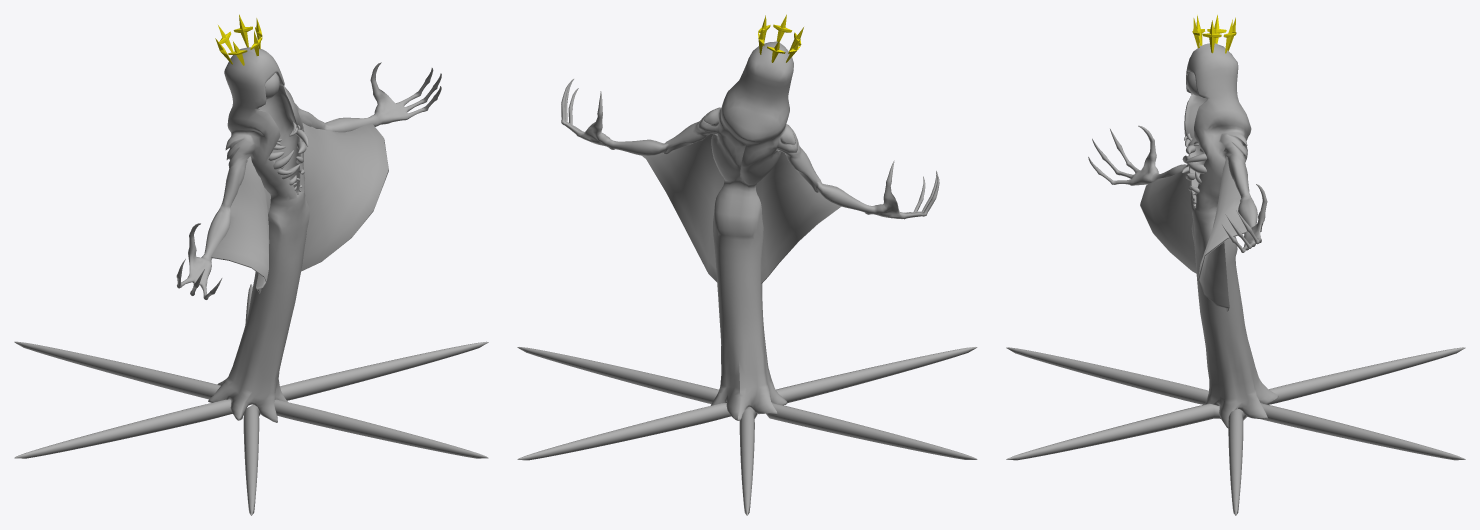
Rendered from BECOMEKING.fbx.
The picture shows the model from 3 angles, left to right: view 1: azimuth 30°, elevation 25°; view 2: azimuth 150°, elevation 25°; view 3: azimuth 270°, elevation 25°; orthographic projection. The views are drawn at different scales.
Parts seen in each view (by area): view 1: RayDemon_geo, SM_CrownOfDamocles; view 2: RayDemon_geo, SM_CrownOfDamocles; view 3: RayDemon_geo, SM_CrownOfDamocles.
Part boxes in pixels (bbox=[...]): RayDemon_geo: bbox=[14, 47, 488, 515]; SM_CrownOfDamocles: bbox=[215, 14, 262, 65]; RayDemon_geo: bbox=[517, 41, 977, 515]; SM_CrownOfDamocles: bbox=[758, 14, 803, 62]; RayDemon_geo: bbox=[1006, 43, 1465, 515]; SM_CrownOfDamocles: bbox=[1192, 15, 1236, 53].
Size of the model in its own units: 268 by 219 by 233.
